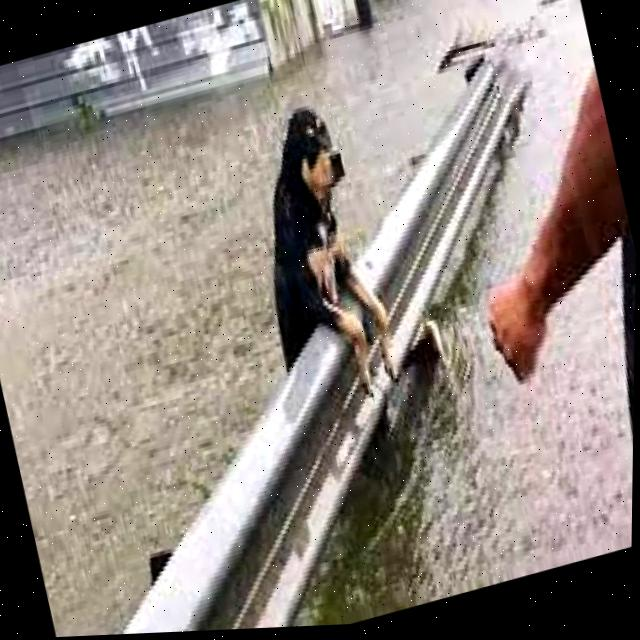dog: (215, 81, 420, 422)
